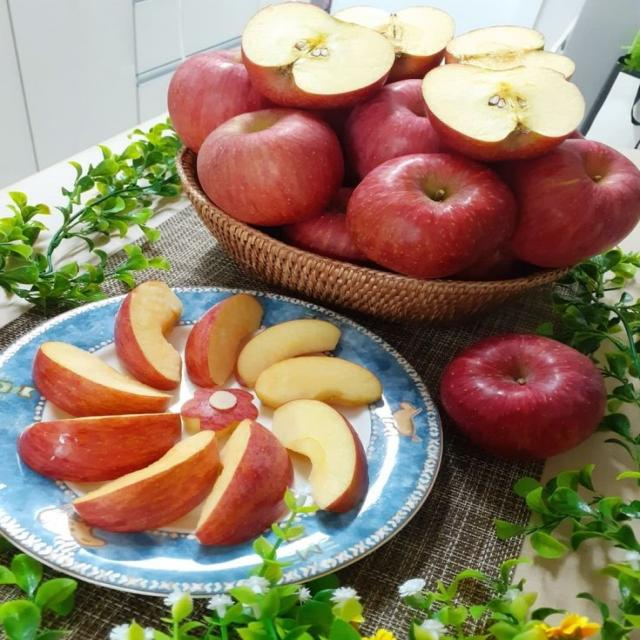apple: (348, 154, 516, 278), (441, 335, 606, 458), (501, 140, 639, 267), (197, 109, 343, 225), (242, 3, 395, 109), (423, 64, 584, 161), (73, 431, 220, 532), (196, 420, 292, 545), (18, 413, 181, 481), (273, 400, 368, 512), (168, 51, 270, 152), (33, 342, 171, 416), (344, 80, 444, 178), (335, 6, 454, 81), (236, 319, 341, 387), (115, 281, 181, 389), (185, 294, 262, 386), (445, 26, 574, 79), (282, 188, 367, 263), (256, 357, 382, 407), (445, 26, 545, 64), (181, 389, 258, 436), (462, 50, 575, 79), (451, 246, 515, 281), (567, 129, 585, 139)
